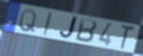4: (98, 22, 113, 48)
B: (74, 17, 99, 44)
I: (42, 12, 53, 37)
J: (58, 15, 80, 41)
Q: (17, 8, 38, 34)
T: (120, 24, 136, 51)
